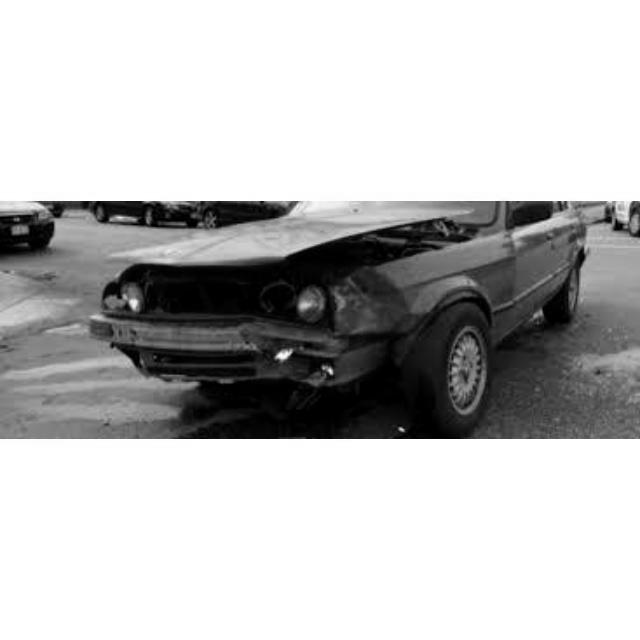bonnet-dent: (143, 201, 449, 277)
fender-dent: (341, 259, 466, 327)
front-bumper-dent: (128, 320, 333, 388)
